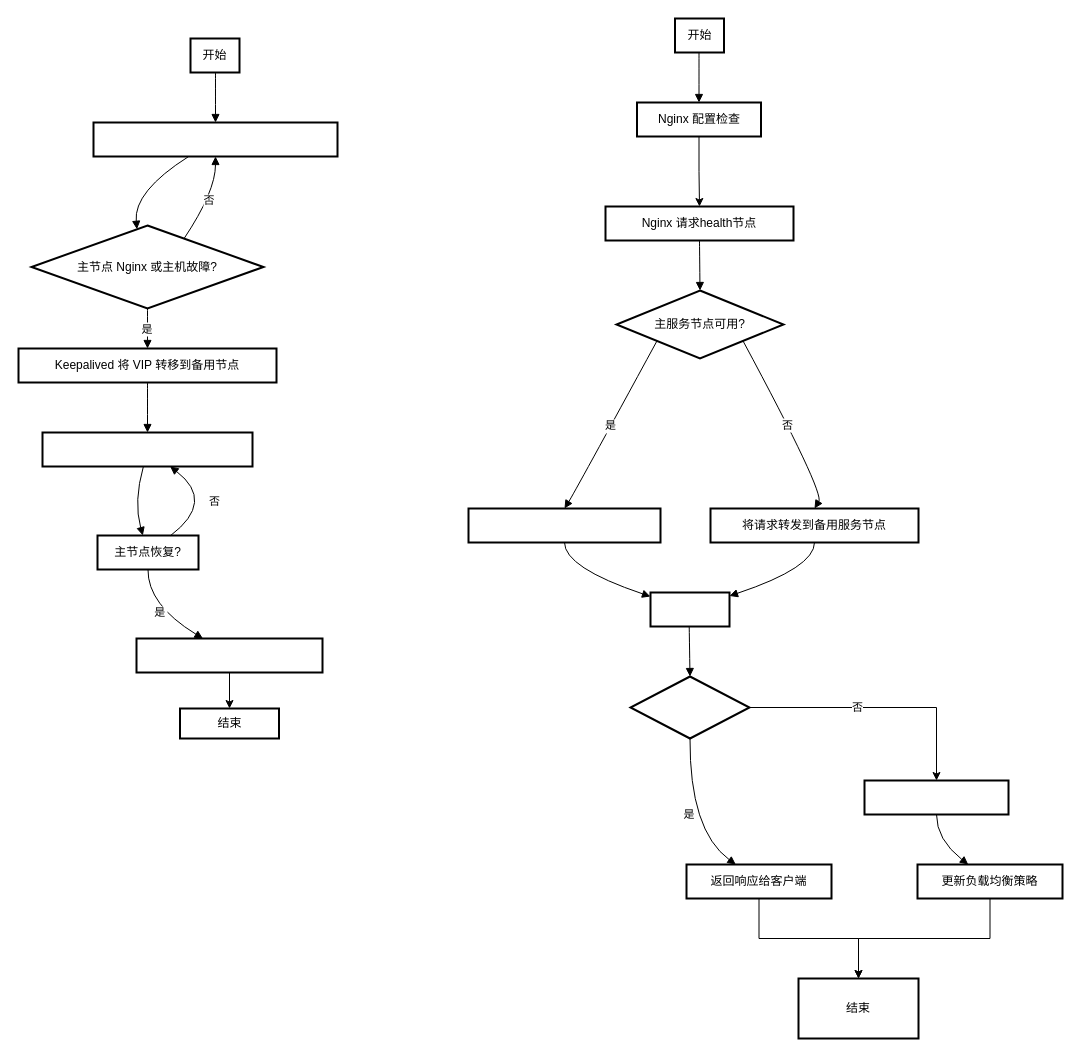
This 1080x1056 diagram has some shape labels left out. Here are the shapes that lost their labels. From the top down, the centre of each, then its label:
the point at 215,139: Keepalived 持续监控 Nginx 状态
the point at 147,449: 备用节点的 Nginx 接管流量
the point at 564,525: 将请求转发到主服务节点
the point at 689,609: 监控响应
the point at 229,655: 可选: 将 VIP 切回主节点
the point at 689,707: 响应正常?
the point at 936,797: 标记节点为不可用
